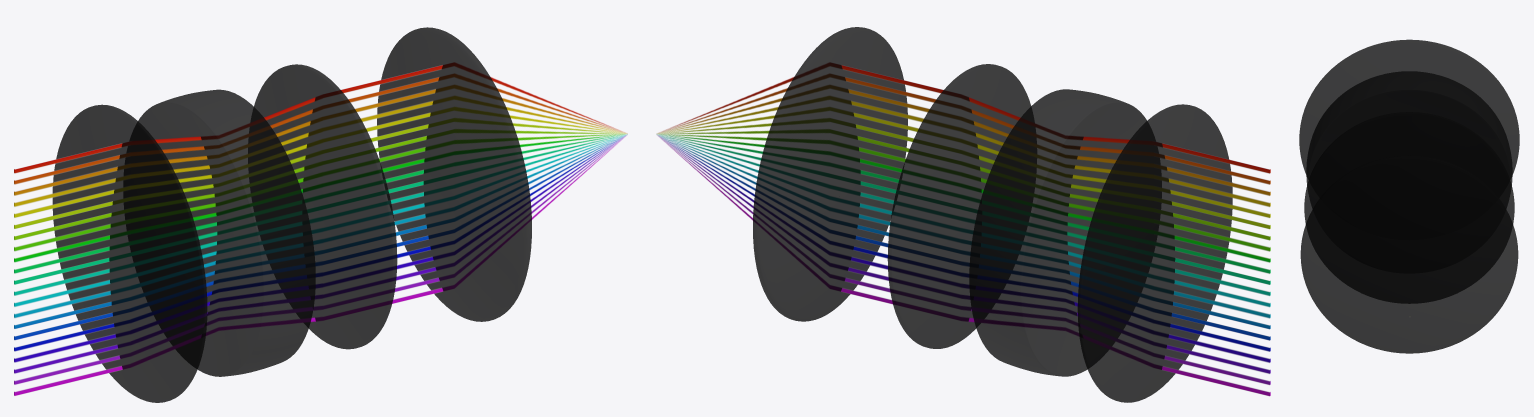
Rendered from 4 lens.glb.
The picture shows the model from 3 angles, left to right: view 1: azimuth 30°, elevation 25°; view 2: azimuth 150°, elevation 25°; view 3: azimuth 270°, elevation 25°; orthographic projection. The views are drawn at different scales.
Visible parts, largest first — view 1: pPlane1, pCylinder11, pCylinder8, pCylinder6, pCylinder7; view 2: pPlane1, pCylinder11, pCylinder8, pCylinder6, pCylinder7; view 3: pCylinder8, pCylinder7, pCylinder11, pCylinder6.
Boxes of the visible parts, x1,y1,x2,y2 form: pPlane1: (14,63,627,395); pCylinder11: (124,89,315,376); pCylinder8: (377,27,531,321); pCylinder6: (52,104,207,402); pCylinder7: (248,64,397,349); pPlane1: (656,63,1270,396); pCylinder11: (969,89,1161,376); pCylinder8: (753,27,907,321); pCylinder6: (1077,104,1232,402); pCylinder7: (887,64,1036,348); pCylinder8: (1300,155,1518,353); pCylinder7: (1304,112,1514,303); pCylinder11: (1306,71,1512,207); pCylinder6: (1299,39,1519,178).
Size of the model in its own units: 0.3451 by 0.1486 by 0.1486.
Materials: 2 (1 with a texture image).
